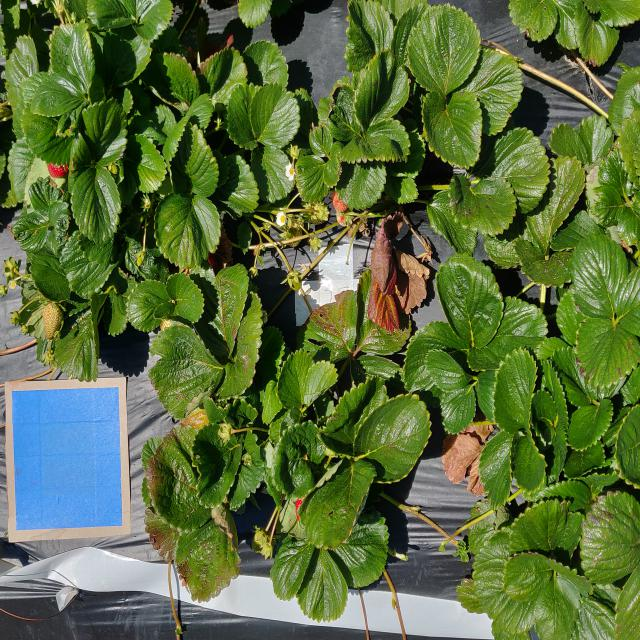Flower: (285, 163, 297, 181), (276, 211, 288, 226)
Green Strawberry: (42, 302, 62, 341), (251, 528, 272, 557), (136, 250, 148, 269)
Red Strawberry: (48, 159, 70, 181), (333, 190, 349, 212), (294, 498, 306, 522)
